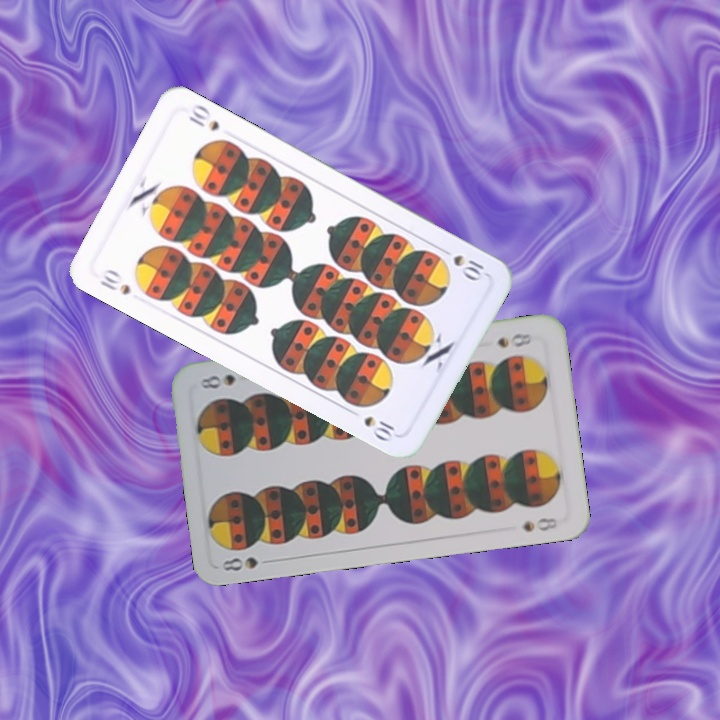S10: (435, 243, 487, 284), (95, 265, 133, 298)
S8: (218, 553, 277, 574), (493, 329, 535, 351)
